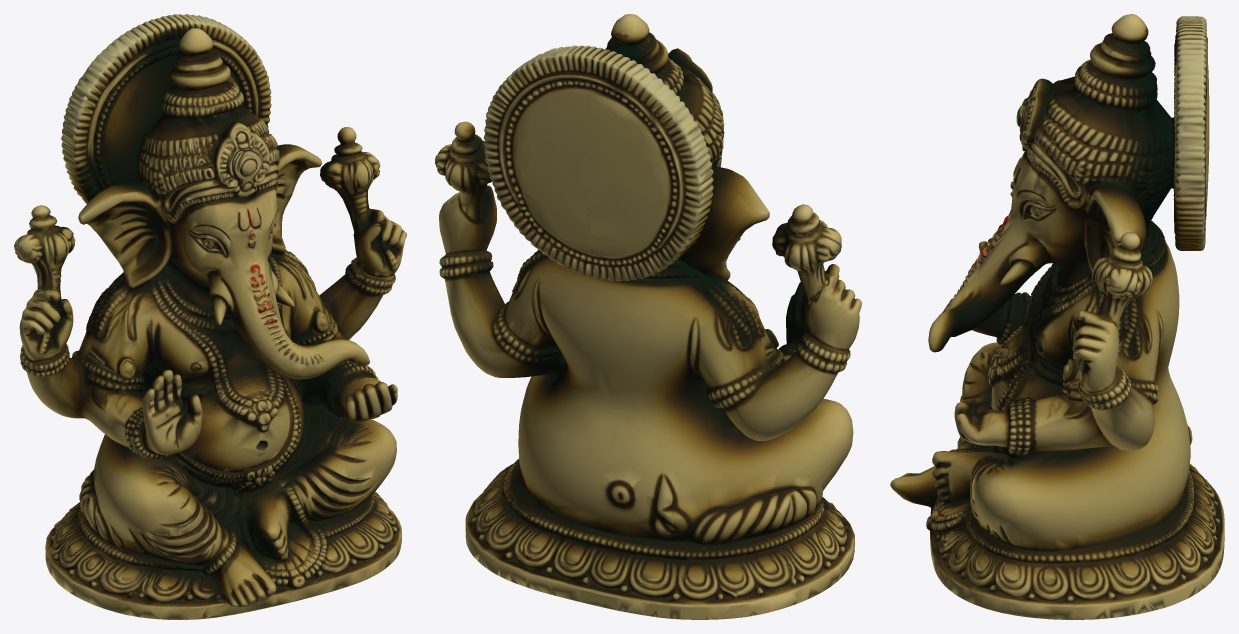
File: ganesha.glb
3 renders of one model, left to right at view 1: azimuth 30°, elevation 25°; view 2: azimuth 150°, elevation 25°; view 3: azimuth 270°, elevation 25°, orthographic. The views are drawn at different scales.
Parts seen in each view (by area): view 1: geometry_0_pbr_material_0 (×16); view 2: geometry_0_pbr_material_0 (×17); view 3: geometry_0_pbr_material_0 (×15).
Boxes of the visible parts, box(x1,y1,x2,y2) form: geometry_0_pbr_material_0 (×16): box(14, 14, 406, 619); geometry_0_pbr_material_0 (×17): box(435, 14, 861, 619); geometry_0_pbr_material_0 (×15): box(890, 14, 1224, 619).
Size of the model in its own units: 0.00793 by 0.01 by 0.00577.
1 material, 1 textured.
